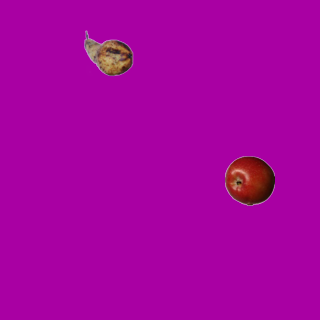Apple Braeburn: (224, 155, 274, 205)
Pear Abate: (83, 28, 133, 78)
